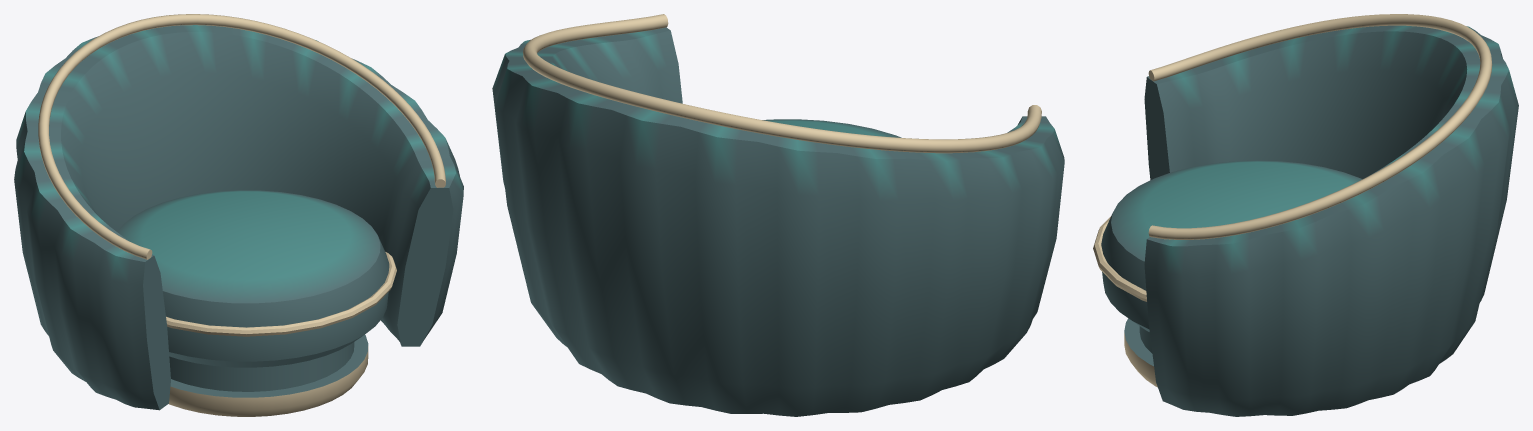
File: KC32__AD_Int_Armchair_Tub_Black.glb
The picture shows the model from 3 angles, left to right: view 1: azimuth 30°, elevation 25°; view 2: azimuth 150°, elevation 25°; view 3: azimuth 270°, elevation 25°; orthographic projection. The views are drawn at different scales.
Parts seen in each view (by area): view 1: KC32_CORPS__AD_Int_Armchair_Tub_Black, KC32_BRONZE__AD_Int_Armchair_Tub_Black; view 2: KC32_CORPS__AD_Int_Armchair_Tub_Black, KC32_BRONZE__AD_Int_Armchair_Tub_Black; view 3: KC32_CORPS__AD_Int_Armchair_Tub_Black, KC32_BRONZE__AD_Int_Armchair_Tub_Black.
Part boxes in pixels (box(x1,y1,x2,y2)): KC32_CORPS__AD_Int_Armchair_Tub_Black: box(14, 25, 463, 410); KC32_BRONZE__AD_Int_Armchair_Tub_Black: box(38, 14, 445, 416); KC32_CORPS__AD_Int_Armchair_Tub_Black: box(492, 27, 1064, 416); KC32_BRONZE__AD_Int_Armchair_Tub_Black: box(523, 14, 1041, 153); KC32_CORPS__AD_Int_Armchair_Tub_Black: box(1101, 25, 1518, 416); KC32_BRONZE__AD_Int_Armchair_Tub_Black: box(1093, 14, 1492, 387).
Bounding box in the file's own units: 1.3 × 0.8599 × 1.12.
